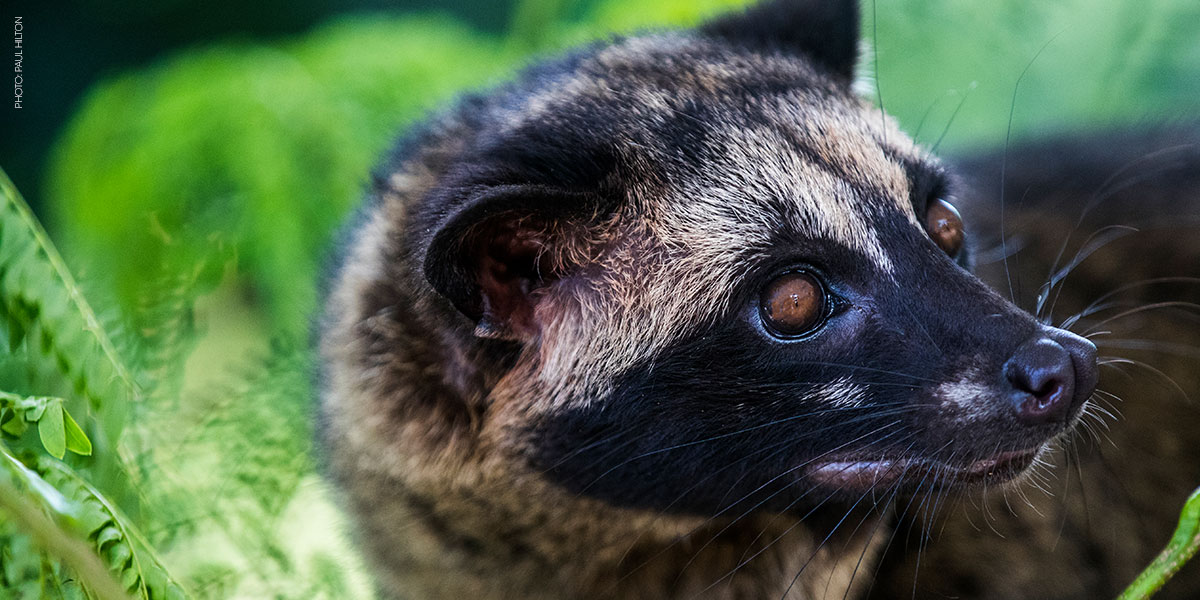Civet: (309, 6, 1132, 553)
